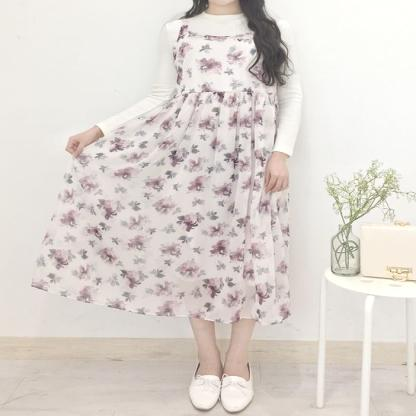dress: (29, 16, 311, 338)
